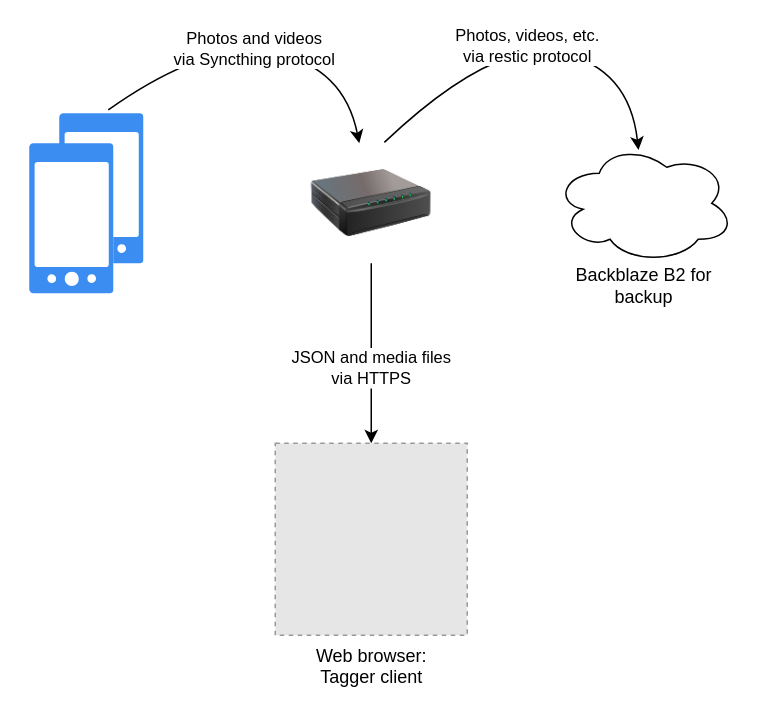
This 761x716 diagram has some shape labels left out. Grey dashed boxes stand in for pictures. The shapes that lost their labels are listed below. From the top down, each one's box as (x1, y1, x2, y2) in pixels, then its label:
(28, 142, 112, 292): Phones: Syncthing on Android
(310, 142, 430, 262): Home server: Syncthing, restic, and Tagger server on systemd on Linux
